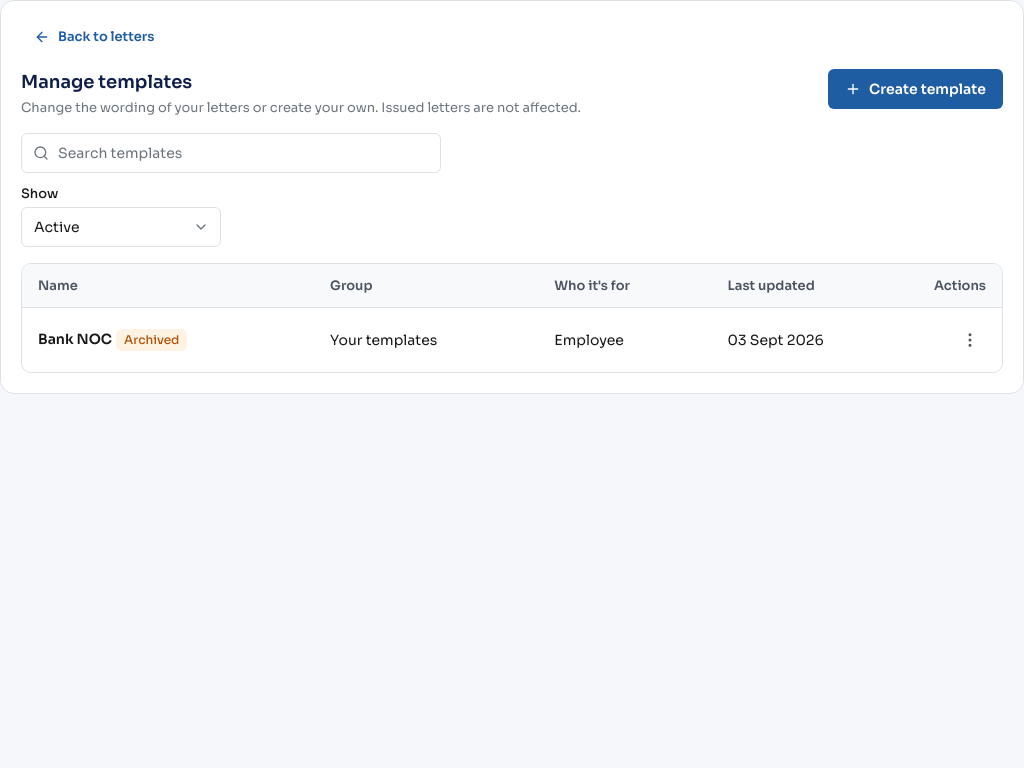
offers Restore for archived templates
Expected: the text "Bank NOC" is shown, [38,329,112,351]
Click the button named "Actions for Bank NOC".
click(970, 340)  # box [954,324,986,356]
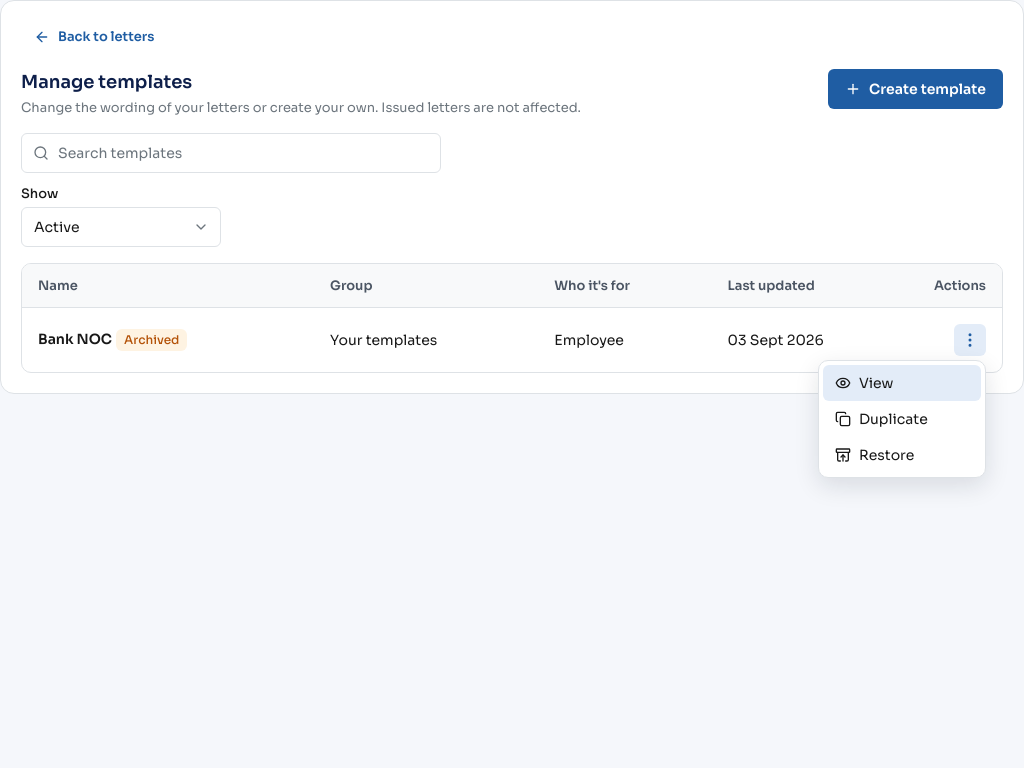
Expected: the menu items read "View", "Duplicate", "Restore", in this order
Click the menu item "Restore".
click(902, 455)  # box [823,437,981,473]
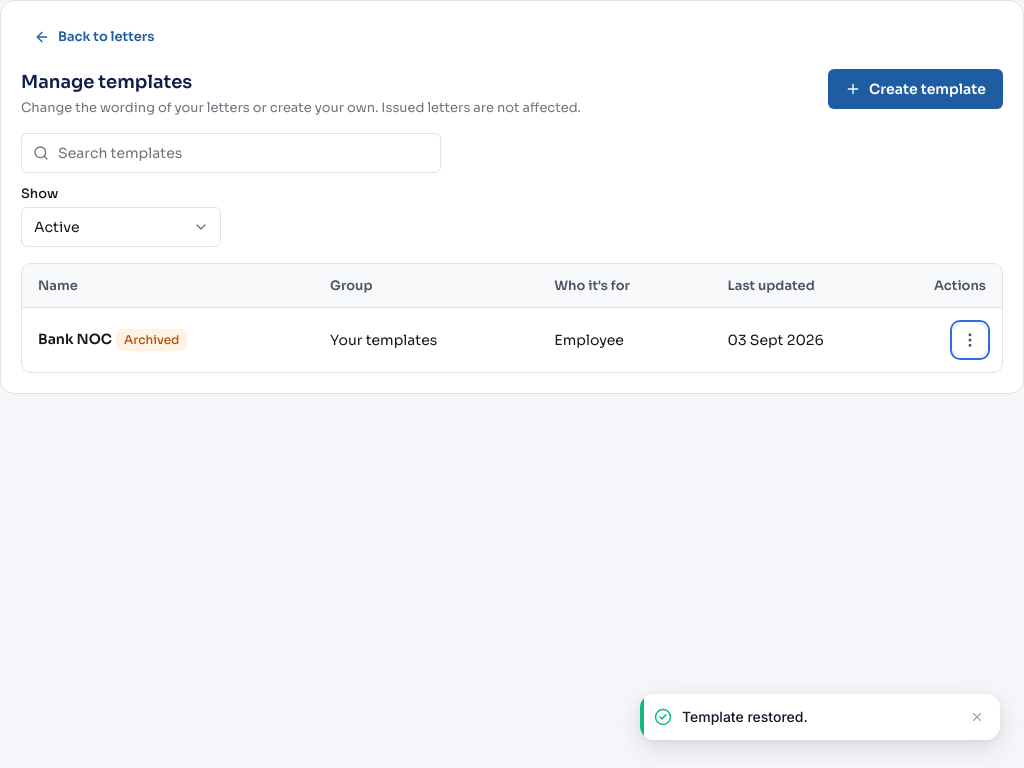
Expected: the text "Template restored." is shown, [682,708,808,725]
